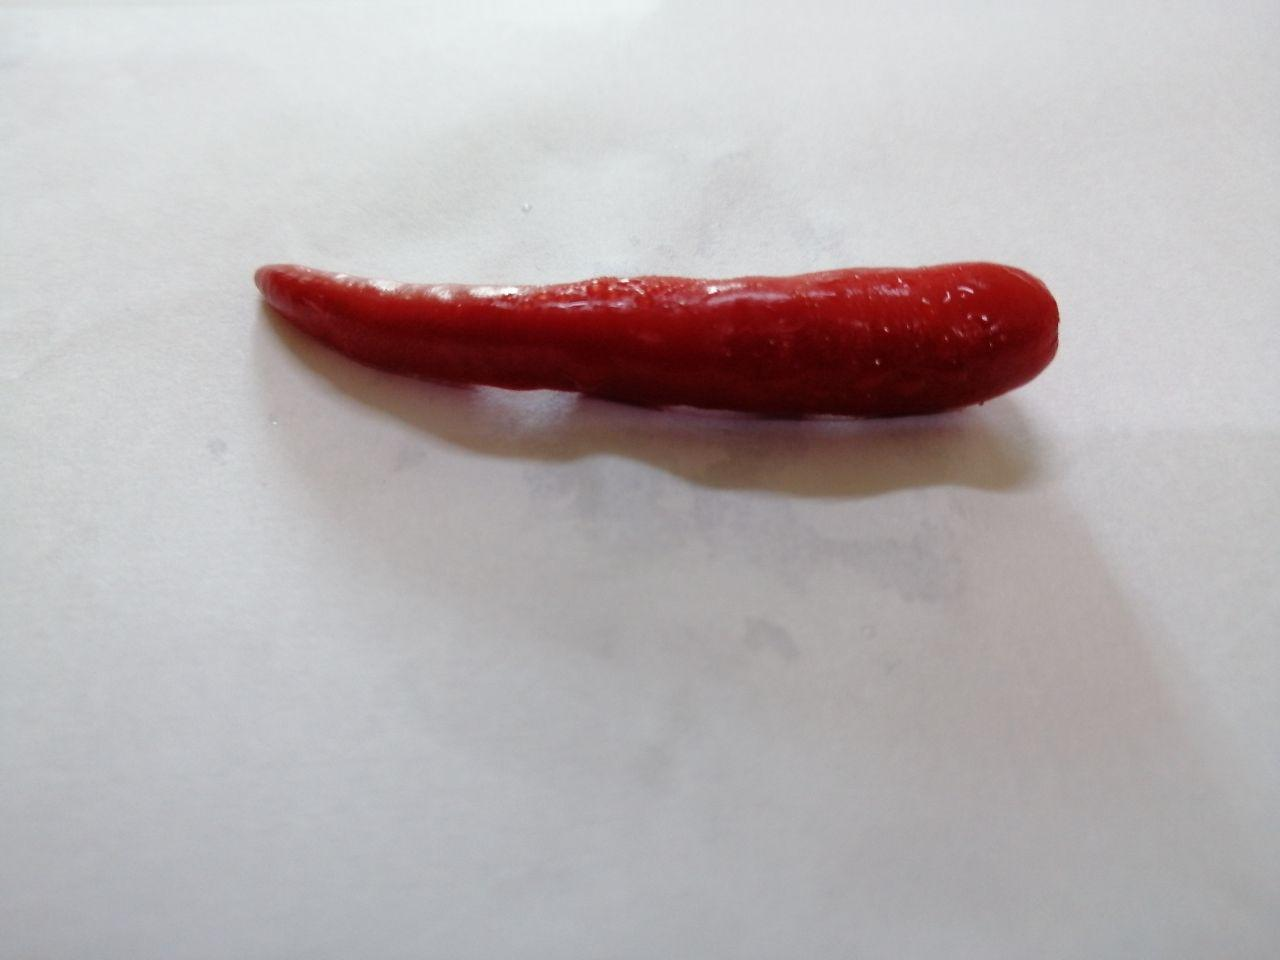lada merah: (243, 219, 1093, 459)
